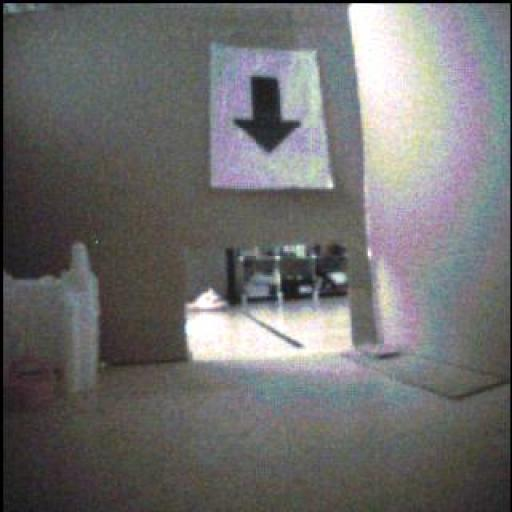arrow: (235, 78, 302, 153)
